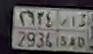2: (18, 10, 26, 48)
3: (36, 11, 45, 49)
4: (45, 12, 53, 50)
9: (27, 11, 35, 49)
A: (69, 15, 76, 50)
D: (77, 20, 86, 50)
